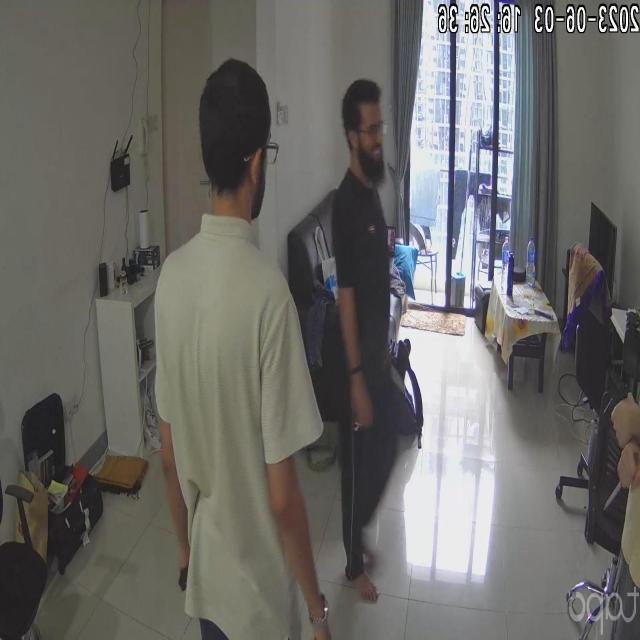Knife: (382, 366, 430, 419)
